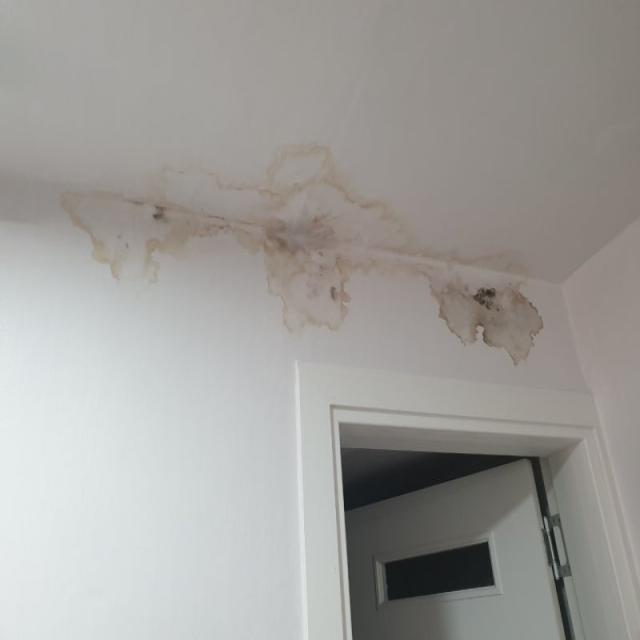leak: (61, 145, 542, 364)
